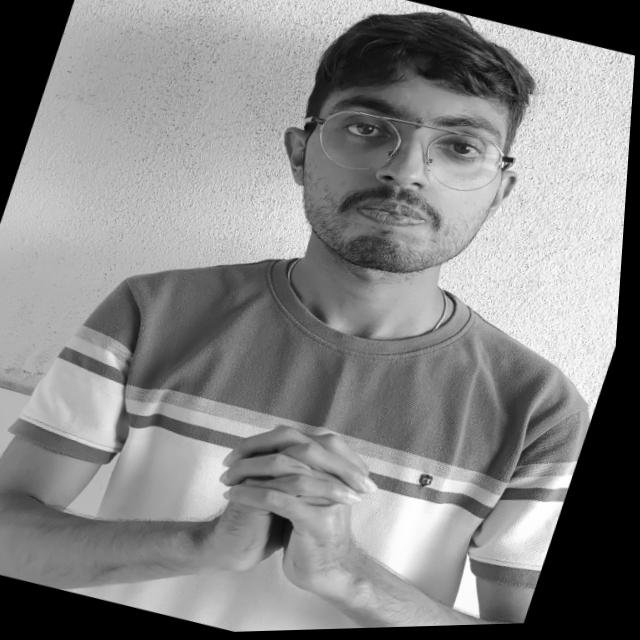Sorry: (142, 391, 448, 633)
